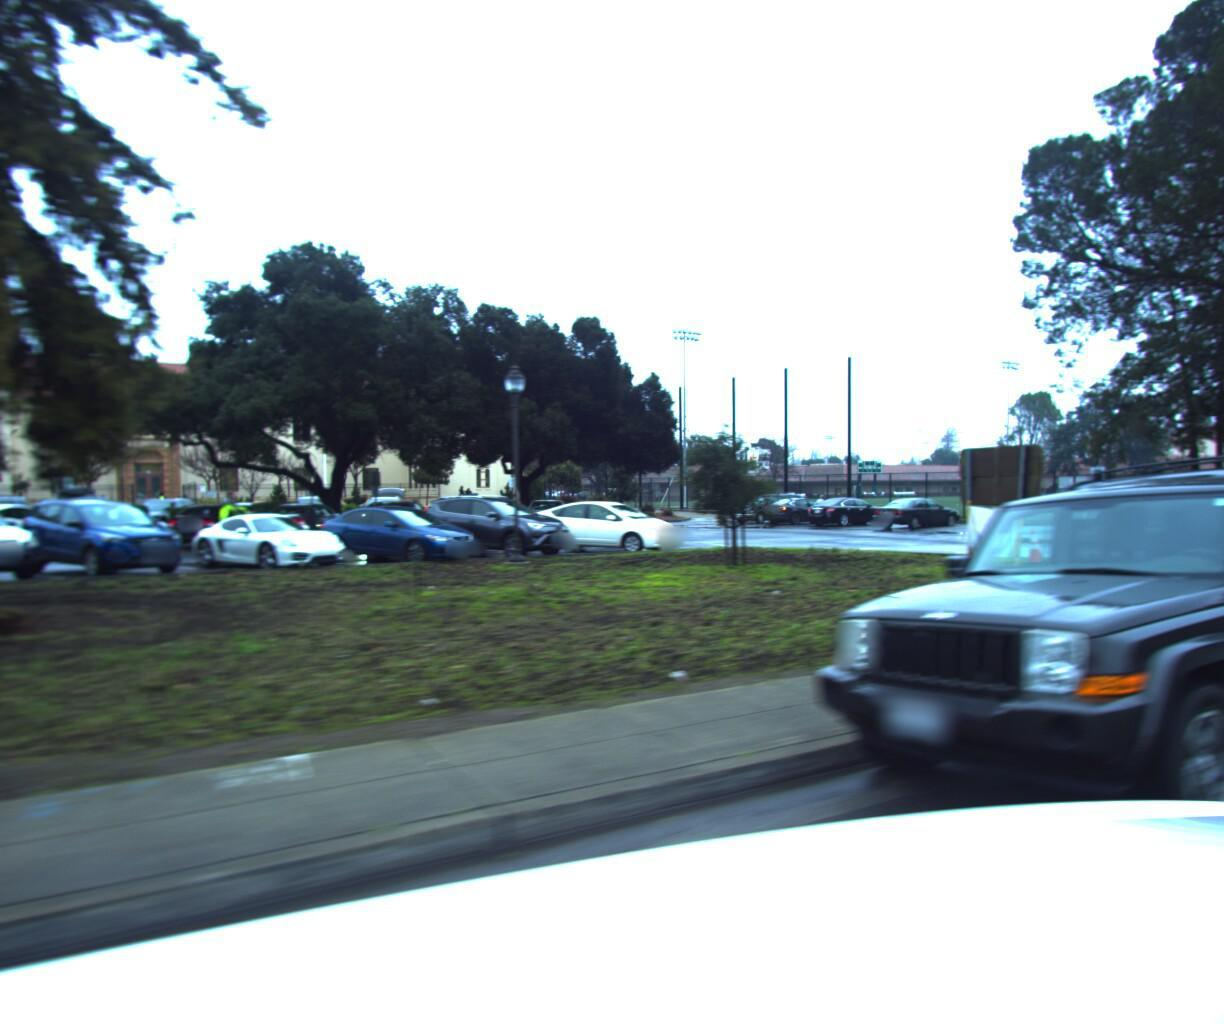car: (770, 404, 1224, 955)
